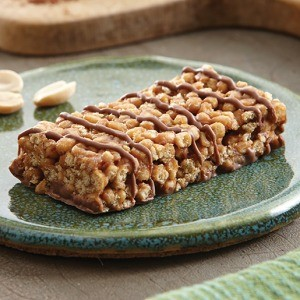peanut butter_brain food: (93, 98, 135, 170)
